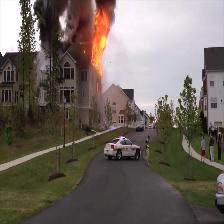fire: (93, 16, 107, 66)
smoke: (39, 1, 87, 52), (98, 3, 112, 14)
